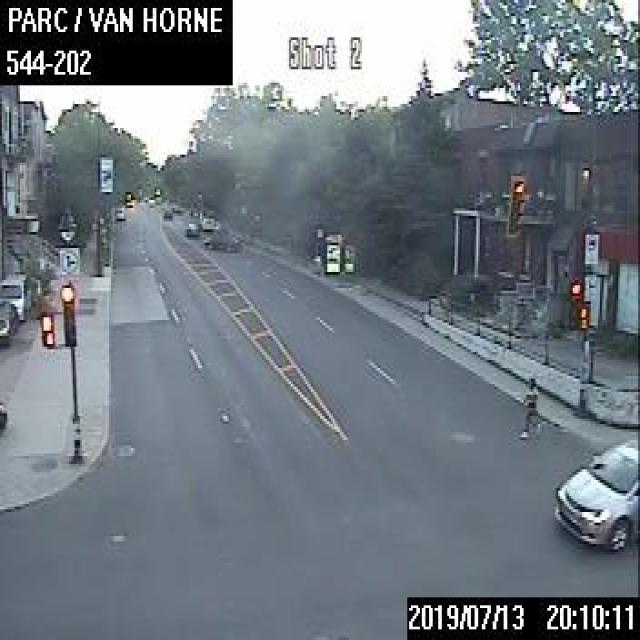bus: (198, 203, 218, 228)
pedestrian: (518, 373, 542, 443)
vehicle: (551, 435, 638, 552), (0, 270, 31, 318), (0, 299, 18, 341), (203, 230, 240, 250), (184, 220, 198, 236), (113, 205, 124, 219), (161, 206, 171, 218)
